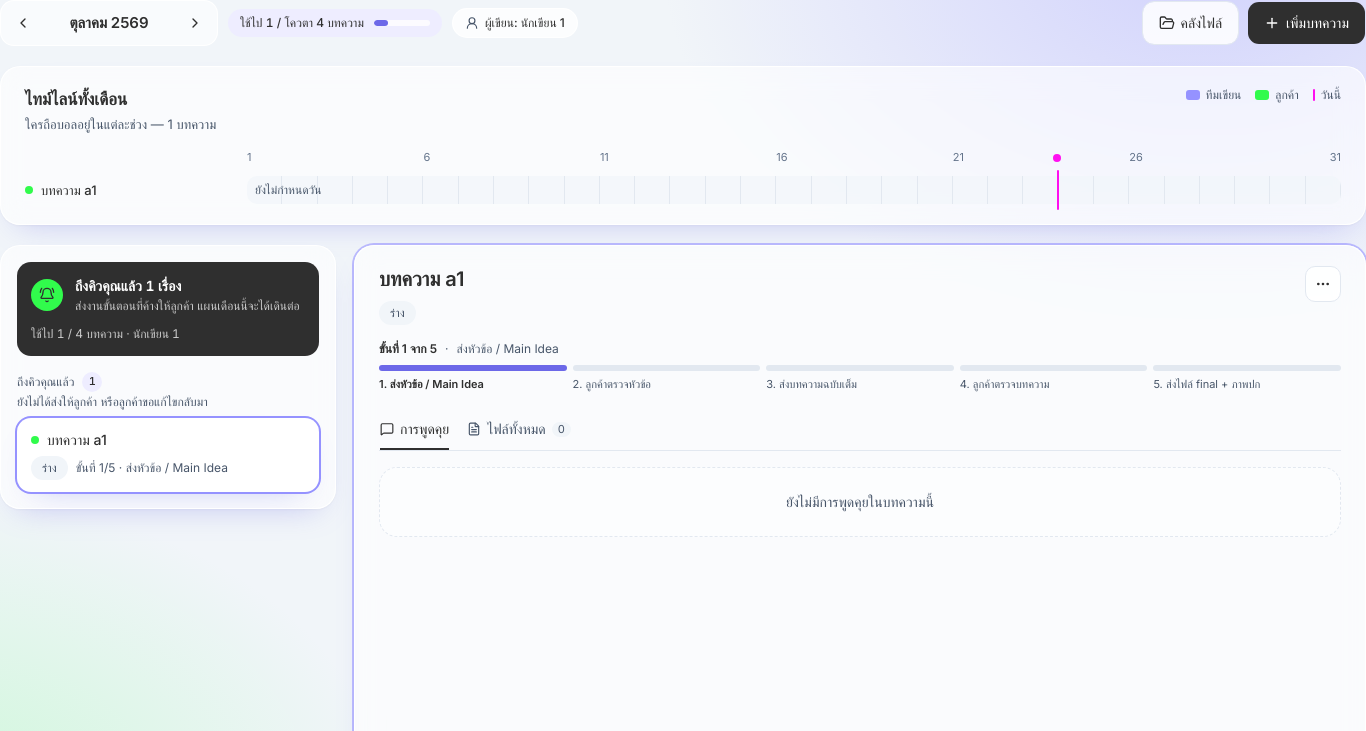
BlogPlanBoard › กดเพิ่มบทความ = เปลี่ยน URL ไปหน้าฟอร์ม ไม่ใช่เปิด dialog ทับบอร์ด
Click the button "เพิ่มบทความ". click: (1307, 23)
box: [1247,1,1365,45]
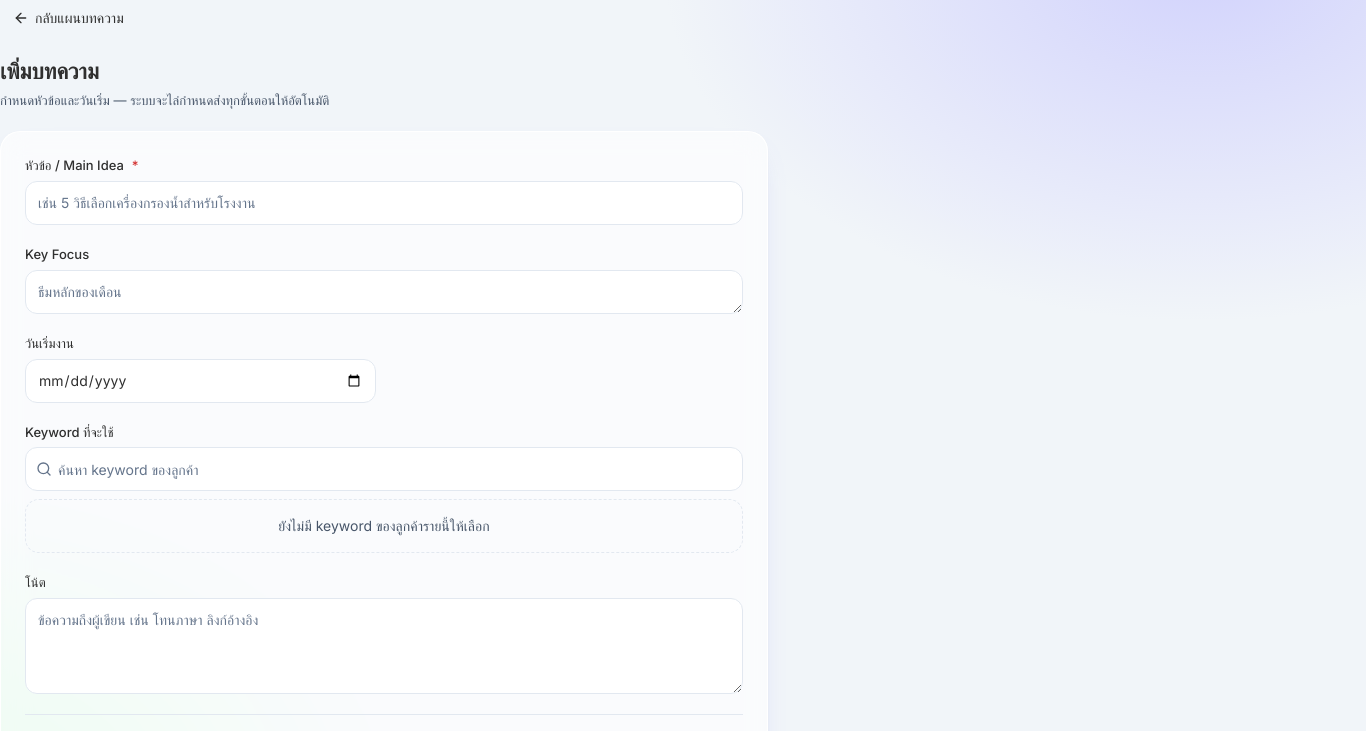
Check: the heading "เพิ่มบทความ" is shown, box [0,58,99,84]
Check: the heading "ถึงคิวคุณแล้ว" is gone
